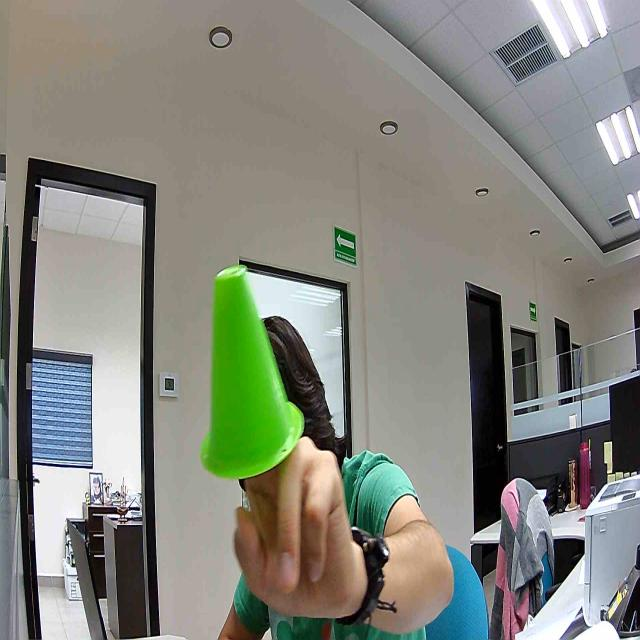cono: (200, 263, 305, 481), (334, 526, 397, 628), (579, 441, 591, 508)
